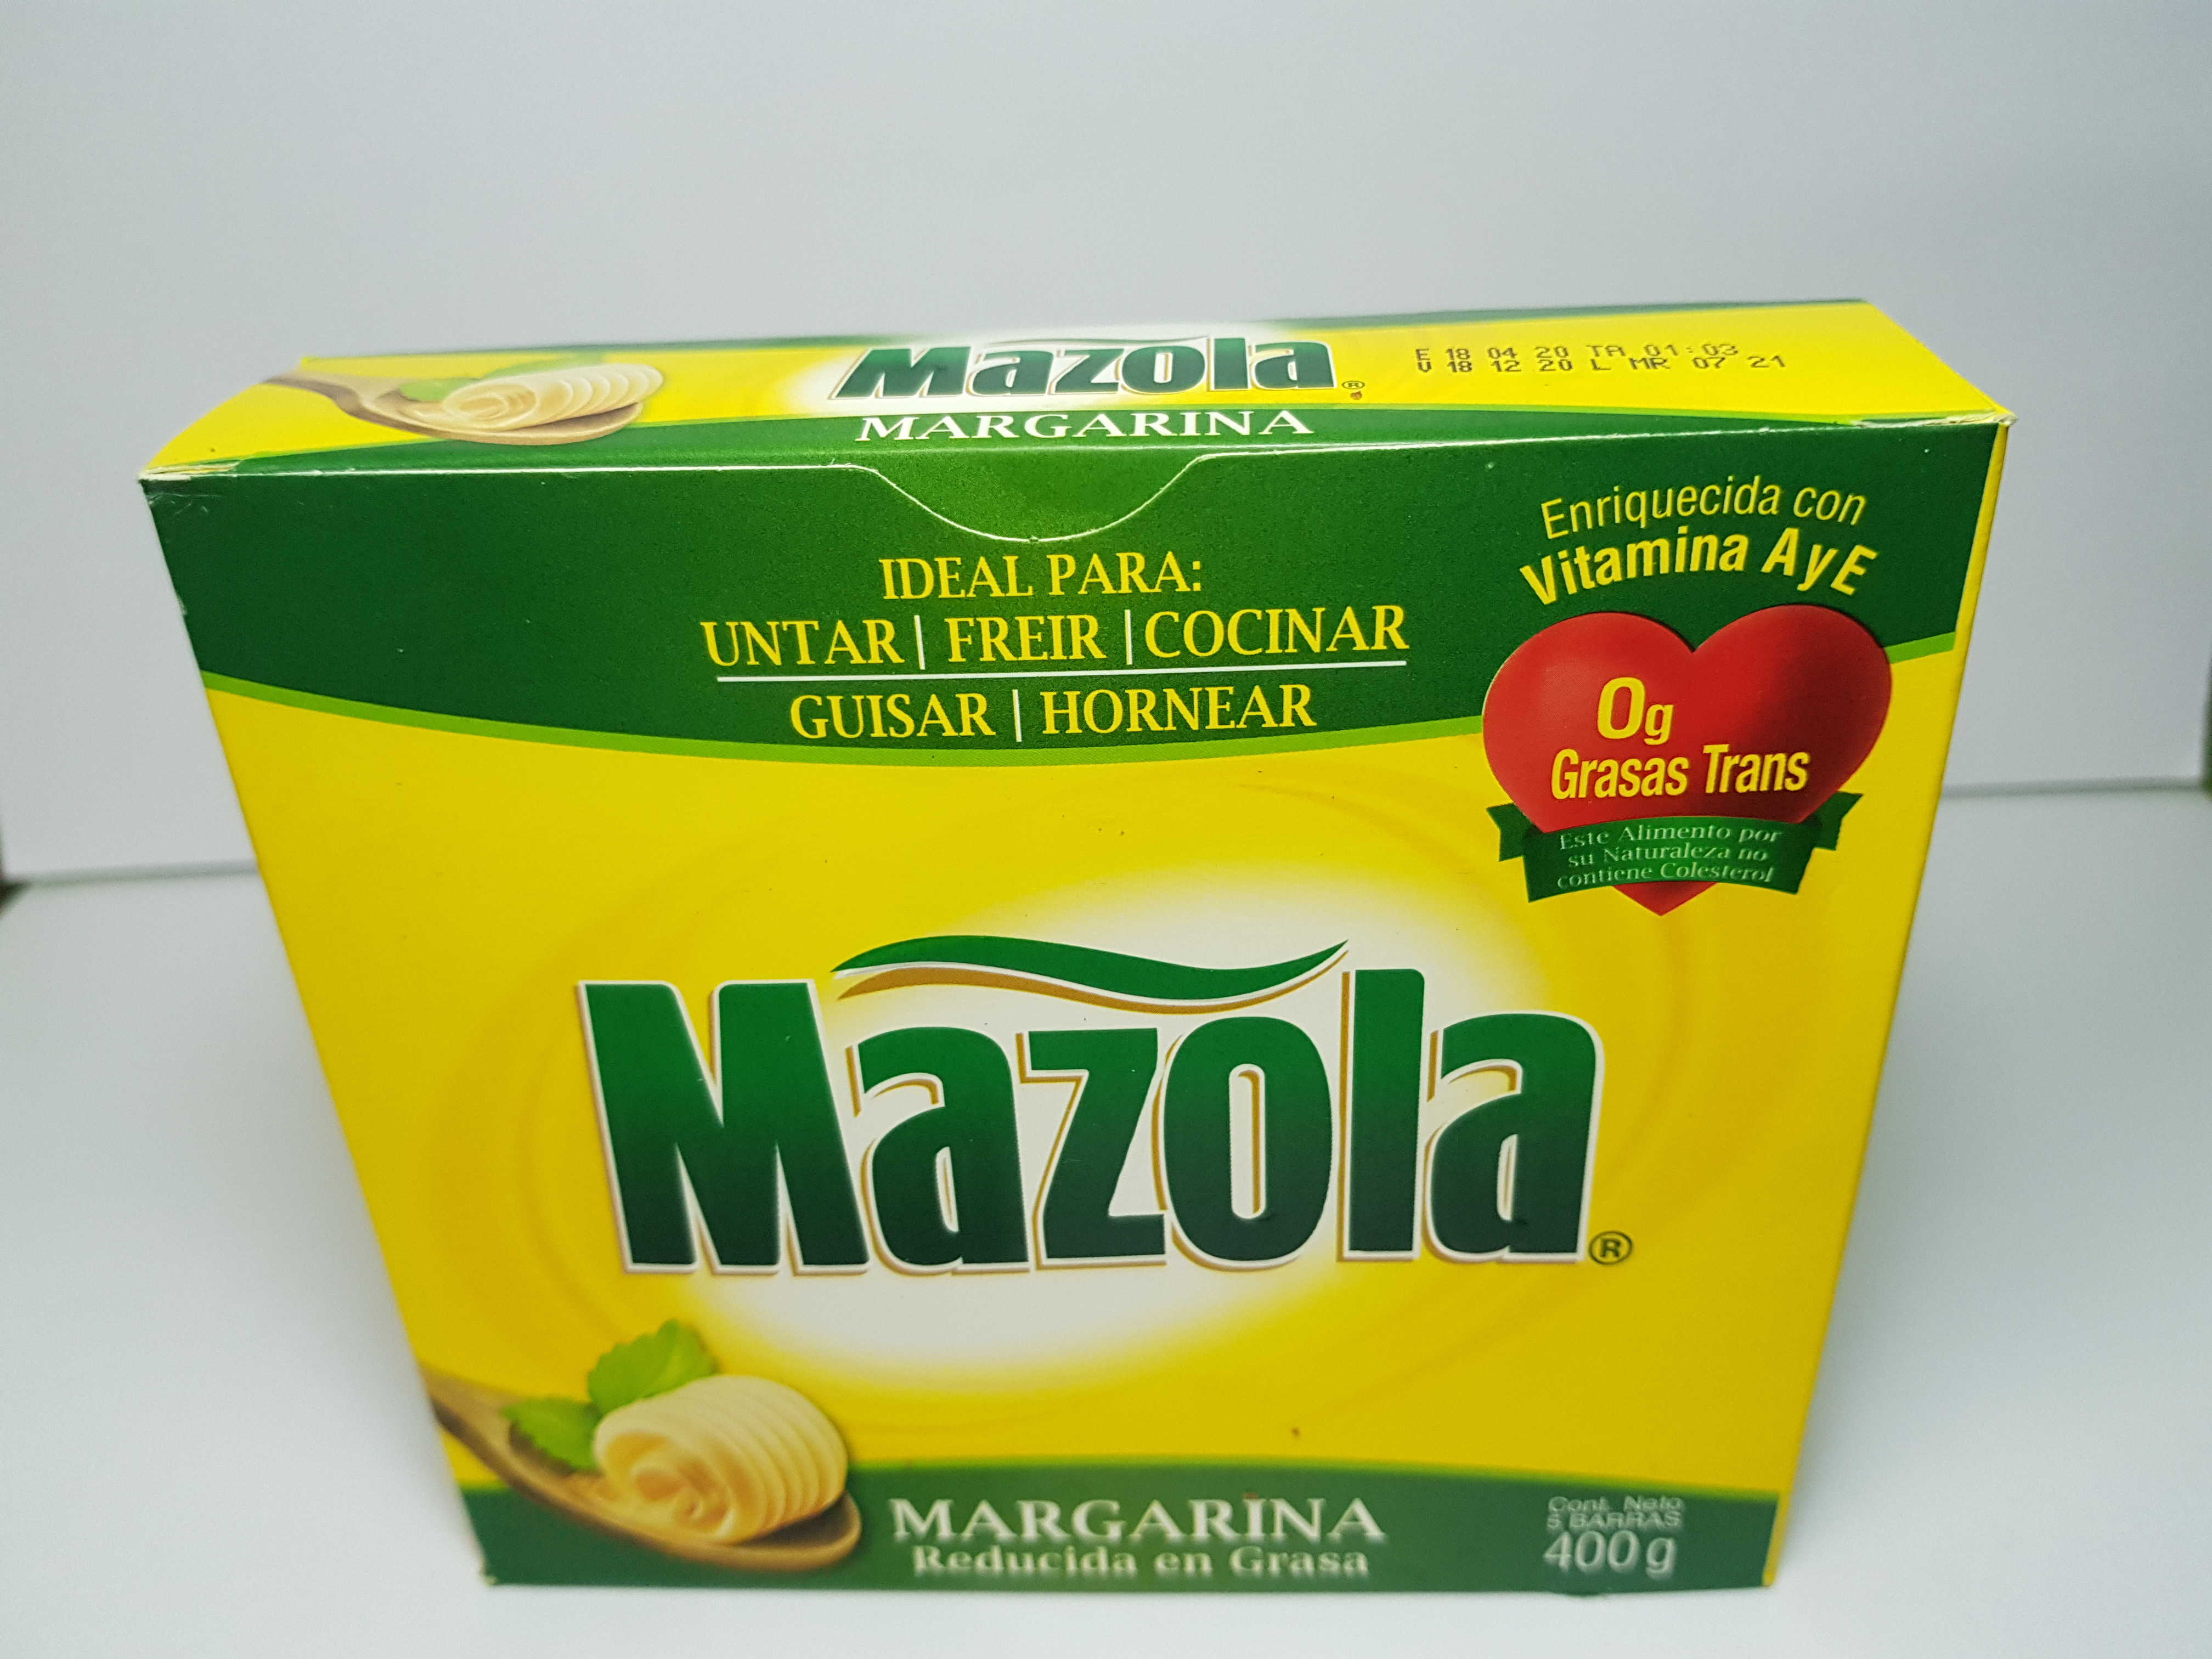mazola: (110, 284, 2019, 1633)
